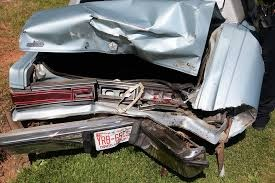Smashed: (1, 2, 243, 173)
